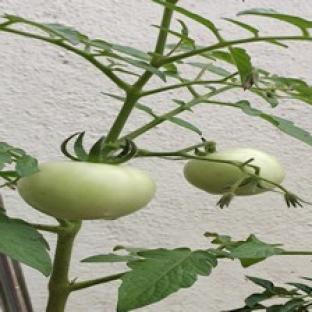Tomato: (19, 162, 155, 220), (207, 148, 284, 183)
